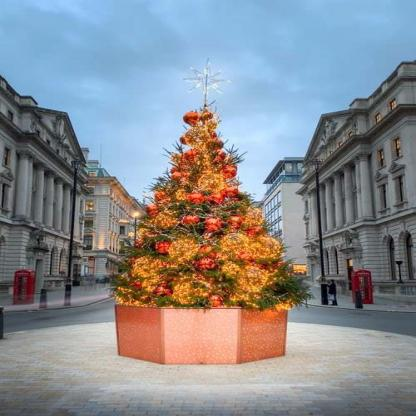x_mas tree: (102, 45, 328, 373)
